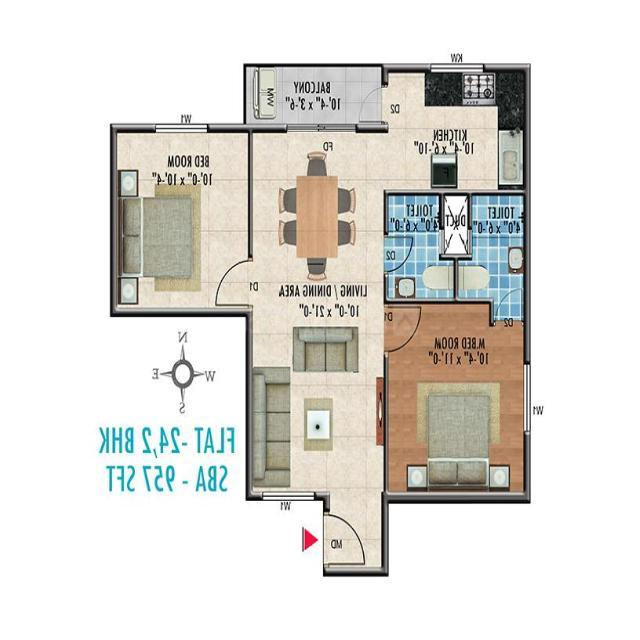Balcony-Sitout: (247, 70, 384, 122)
Bedroom: (114, 136, 251, 308)
Bedroom with Toilet: (386, 194, 528, 494)
Dining: (275, 148, 360, 287)
Enterance-Foyer: (302, 502, 382, 571)
Kitchen: (382, 74, 527, 194)
Living: (251, 325, 383, 498)
Toilet: (454, 199, 527, 305), (387, 201, 451, 298)
